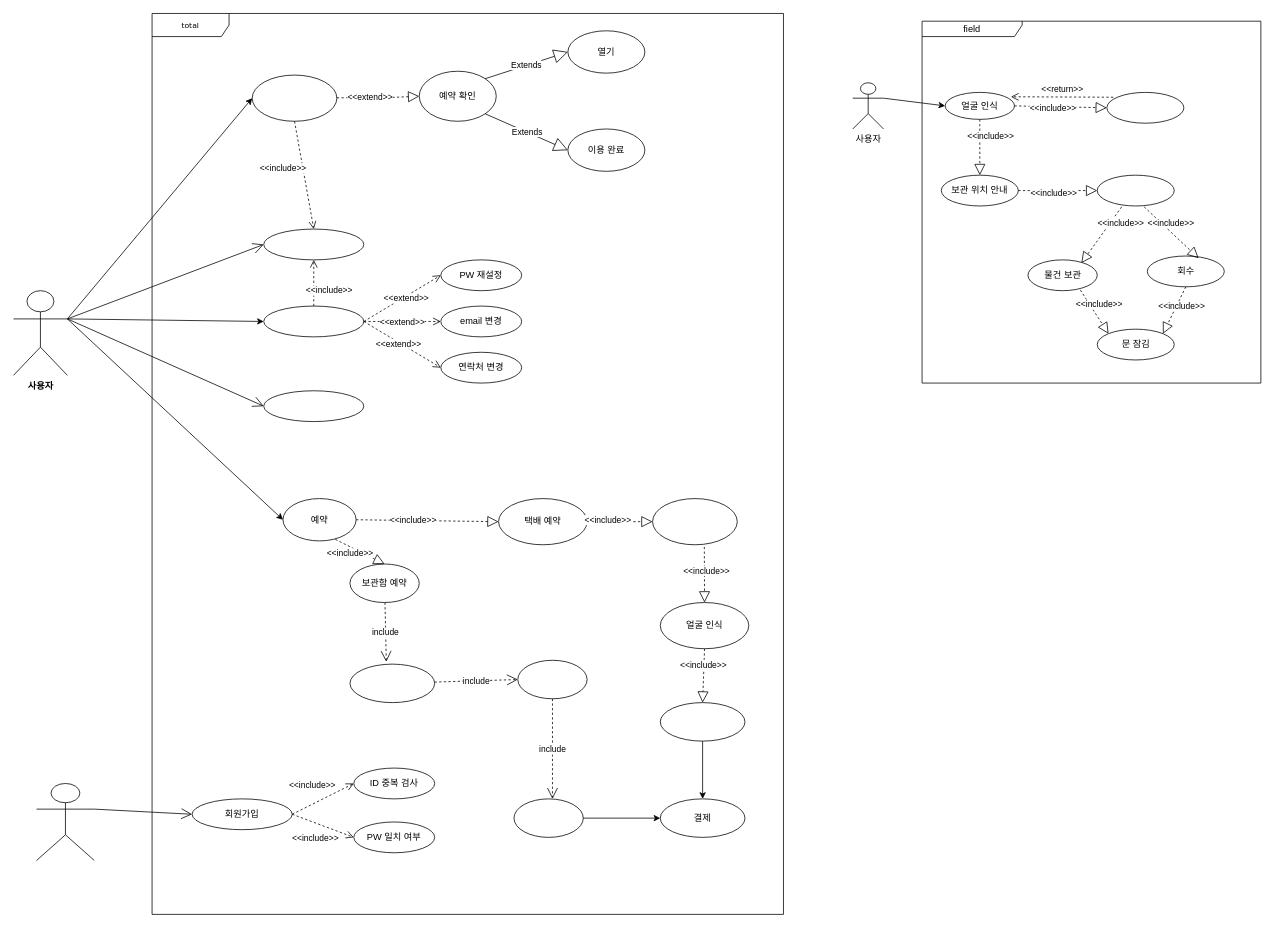
Some shapes in this 1274 by 928 pixel diagram are drawn without their labels. The shapes that lost their labels are listed below. From the top down, each one's centre as x and y in pixels, then its label:
At [294,97]: "통합 조회".
At [1145,107]: "인식 불가 팝업창".
At [1135,190]: "문 열림".
At [313,244]: "로그인".
At [313,321]: "회원 정보 수정".
At [313,406]: "ID 찾기".
At [694,521]: "지점 및 날짜 선택".
At [392,683]: "날짜,지점 선택".
At [552,679]: "보관함 선택".
At [702,721]: "요금 정산".
At [65,821]: "비회원".
At [548,817]: "얼굴등록".
